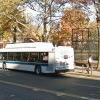Bus: (3, 40, 78, 81)
